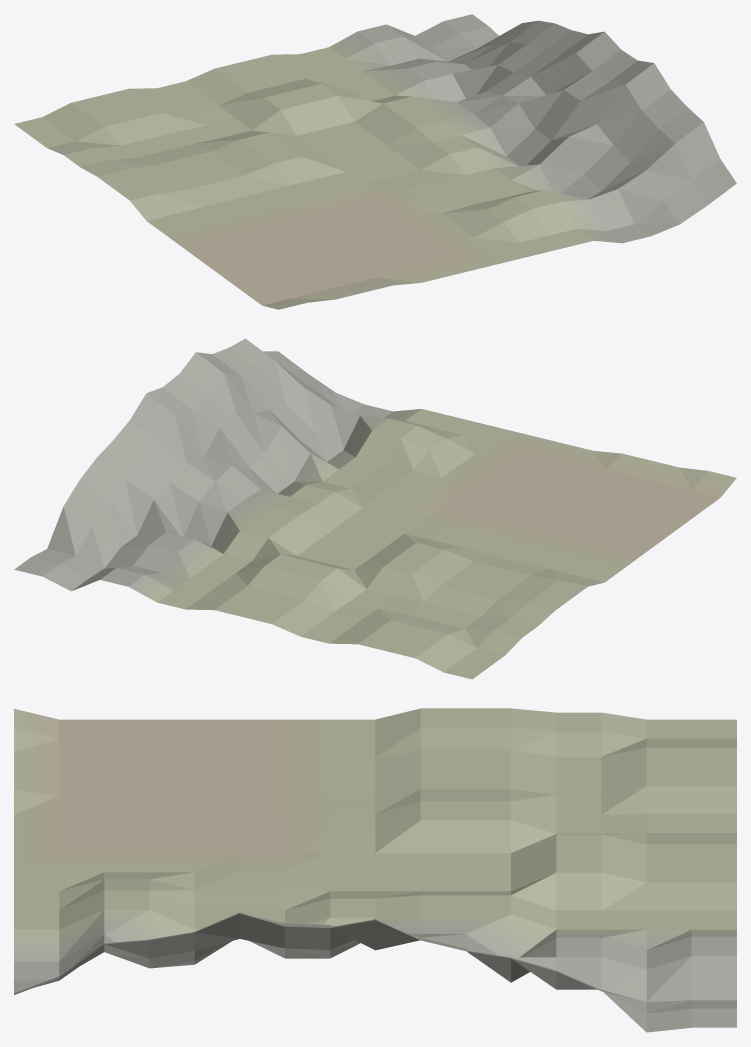
3 renders of one model, top to bottom at view 1: azimuth 30°, elevation 25°; view 2: azimuth 150°, elevation 25°; view 3: azimuth 270°, elevation 25°, orthographic. The views are drawn at different scales.
Size of the model in its own units: 32 by 6.27 by 32.
